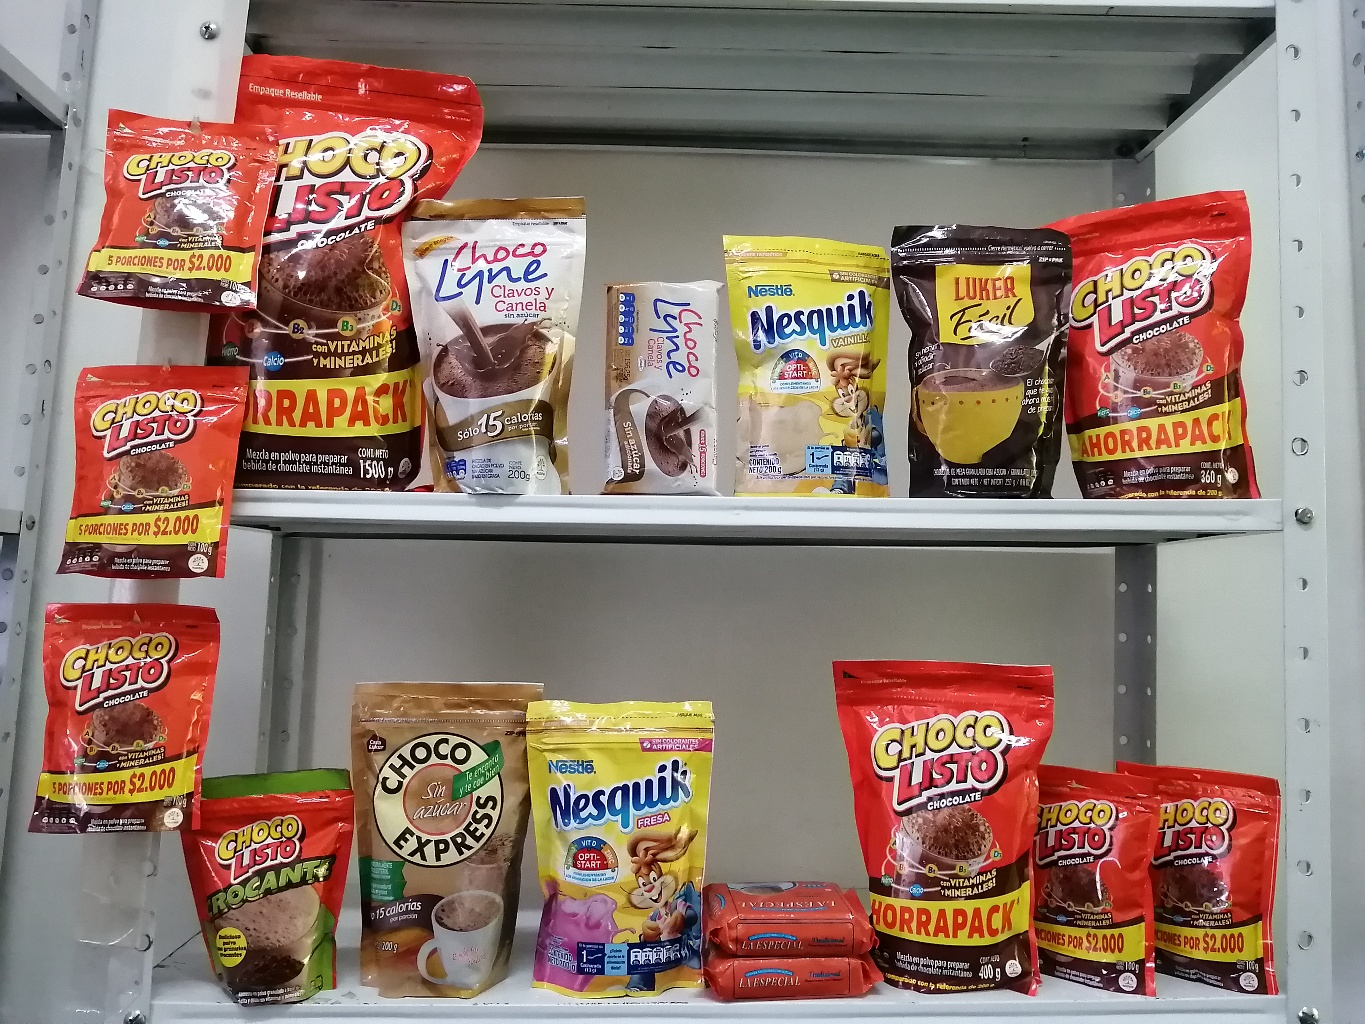COL0170102DYP10000: (191, 760, 347, 1011)
COL0170103DYP1,500: (219, 41, 482, 503)
COL0170103DYP10000: (1119, 764, 1282, 996)
COL0170103DYP36000: (1053, 186, 1267, 508)
COL0170103DYP40000: (835, 638, 1048, 989)
COL0170305DYP20000: (528, 683, 701, 996)
COL0170306DYP20000: (714, 223, 901, 486)
